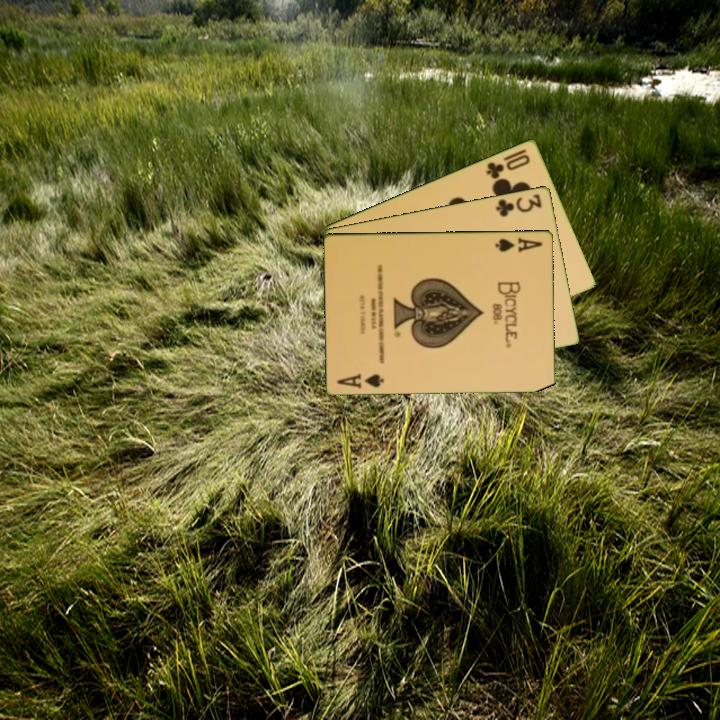10c: (483, 150, 533, 182)
3c: (492, 190, 545, 219)
As: (492, 233, 546, 255), (334, 370, 387, 391)
